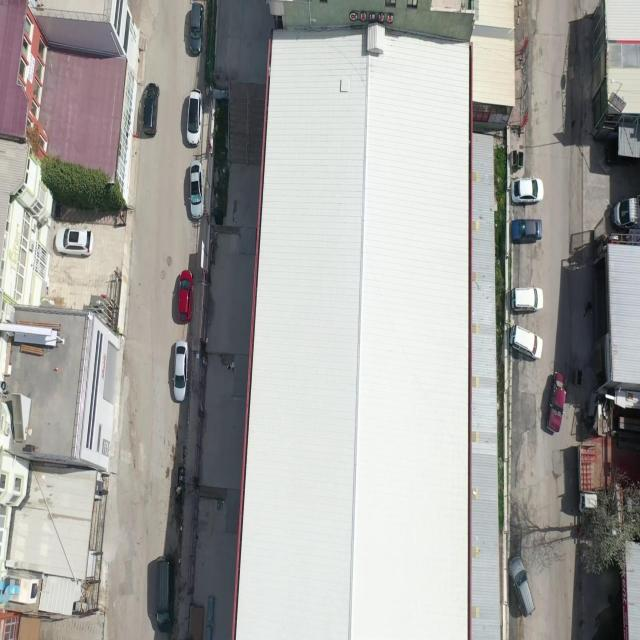p3rson: (583, 301, 592, 318), (577, 524, 582, 539)
